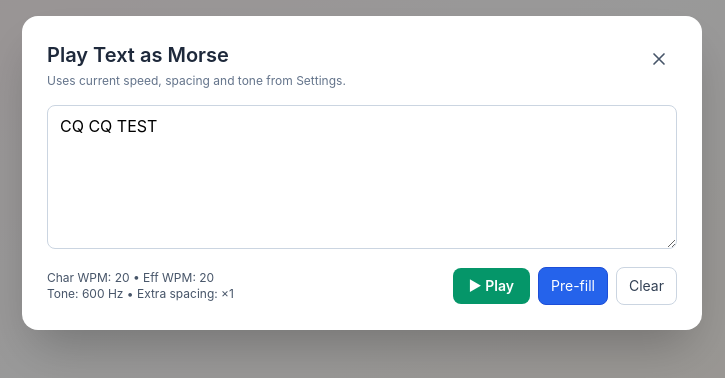
Scenario: TextPlayerModal › should clear text when clear button is clicked
Click the button "Clear" at (646, 286), box top-left (616, 267), bottom-right (677, 305)
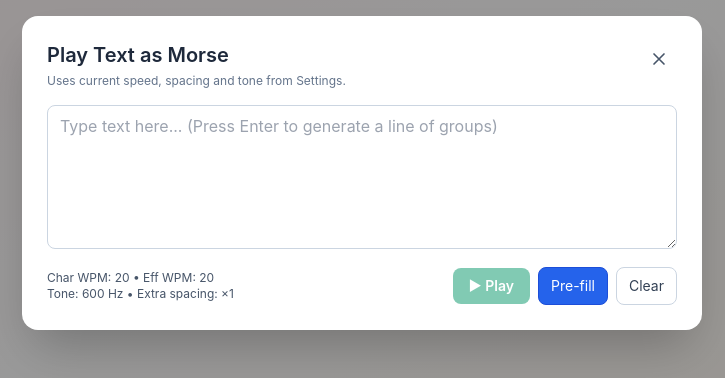
Now the text box with placeholder "Type text here" is empty, box top-left (47, 105), bottom-right (677, 249)
